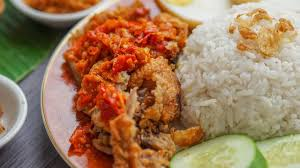ayam_geprek: (64, 6, 186, 164)
